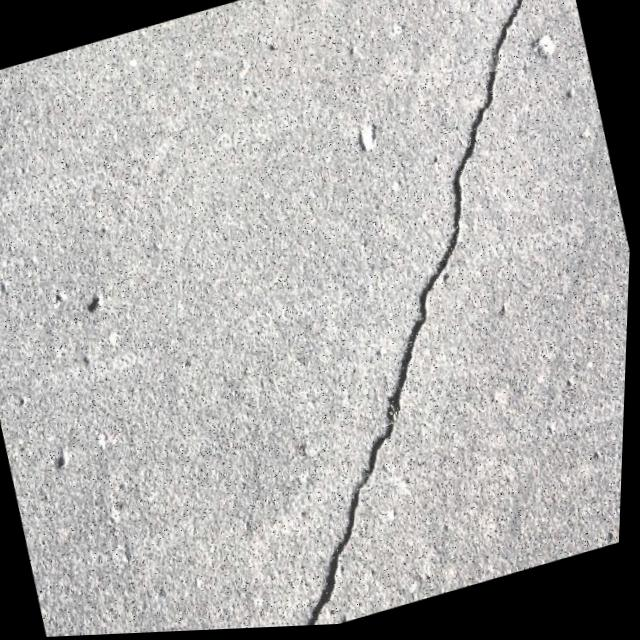Crack: (144, 0, 640, 634)
